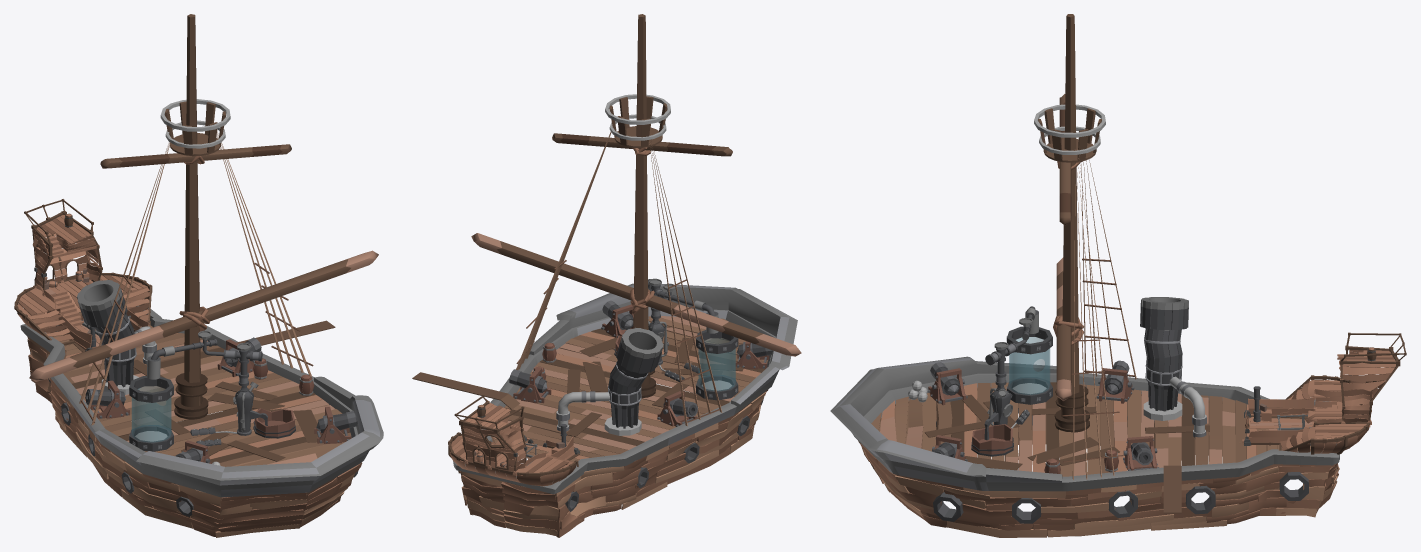
The picture shows the model from 3 angles, left to right: view 1: azimuth 30°, elevation 25°; view 2: azimuth 150°, elevation 25°; view 3: azimuth 270°, elevation 25°; orthographic projection. The views are drawn at different scales.
Visible parts, largest first — view 1: segment_1; view 2: segment_1; view 3: segment_1.
Part boxes in pixels (bbox=[...]): segment_1: bbox=[14, 14, 383, 537]; segment_1: bbox=[412, 14, 801, 537]; segment_1: bbox=[830, 14, 1406, 537].
Bounding box in the file's own units: 58.27 × 71.67 × 79.59.
